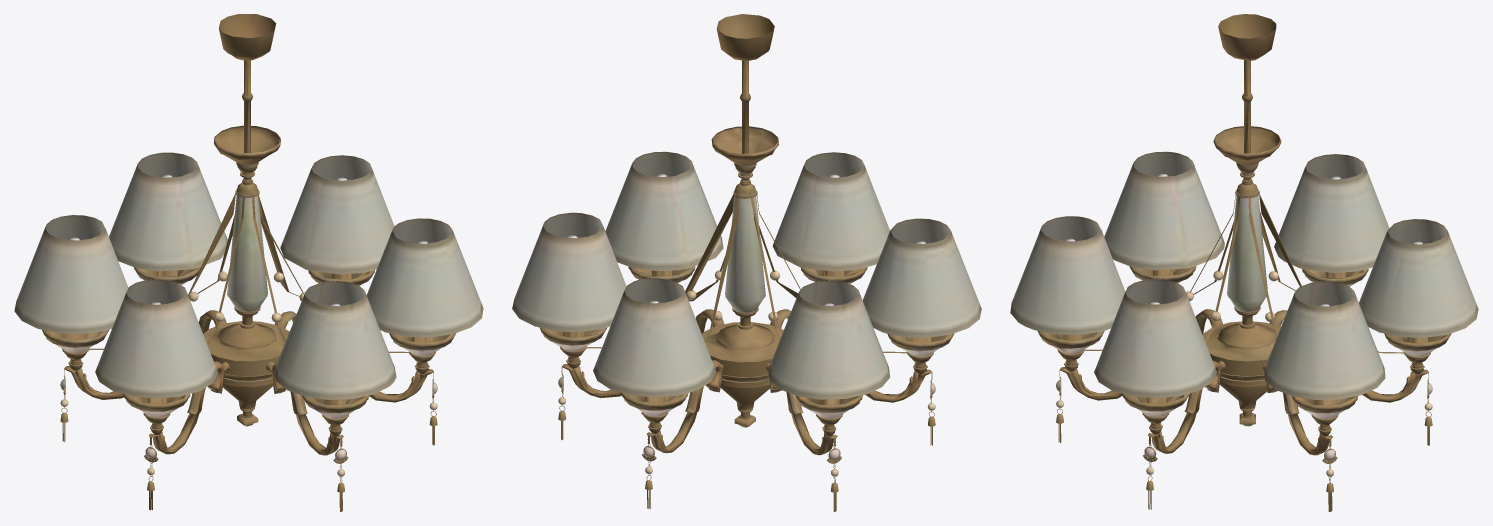
3 renders of one model, left to right at view 1: azimuth 30°, elevation 25°; view 2: azimuth 150°, elevation 25°; view 3: azimuth 270°, elevation 25°, orthographic.
Visible parts, largest first — view 1: Chandelier_01; view 2: Chandelier_01; view 3: Chandelier_01.
Part boxes in pixels (<box>): Chandelier_01: <box>14,14,483,511</box>; Chandelier_01: <box>512,14,981,511</box>; Chandelier_01: <box>1010,14,1478,511</box>.
Size of the model in its own units: 0.7442 by 0.7983 by 0.8141.
Materials: 2 (1 with a texture image).
